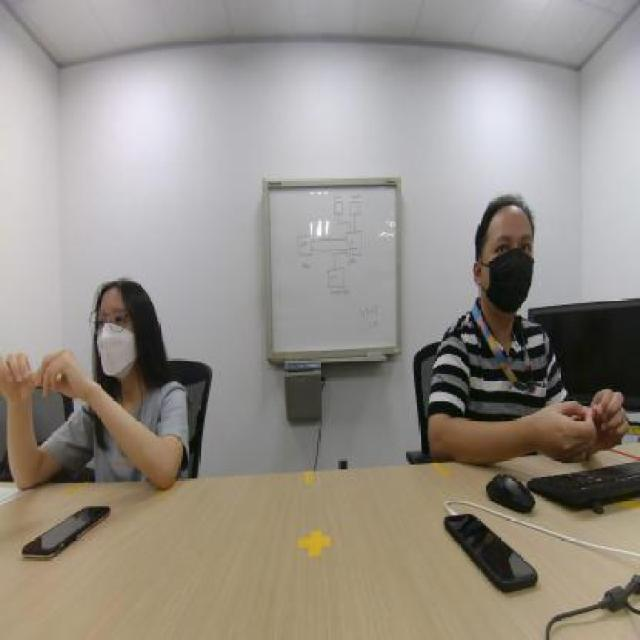Person: (14, 255, 203, 476), (422, 172, 558, 446)
